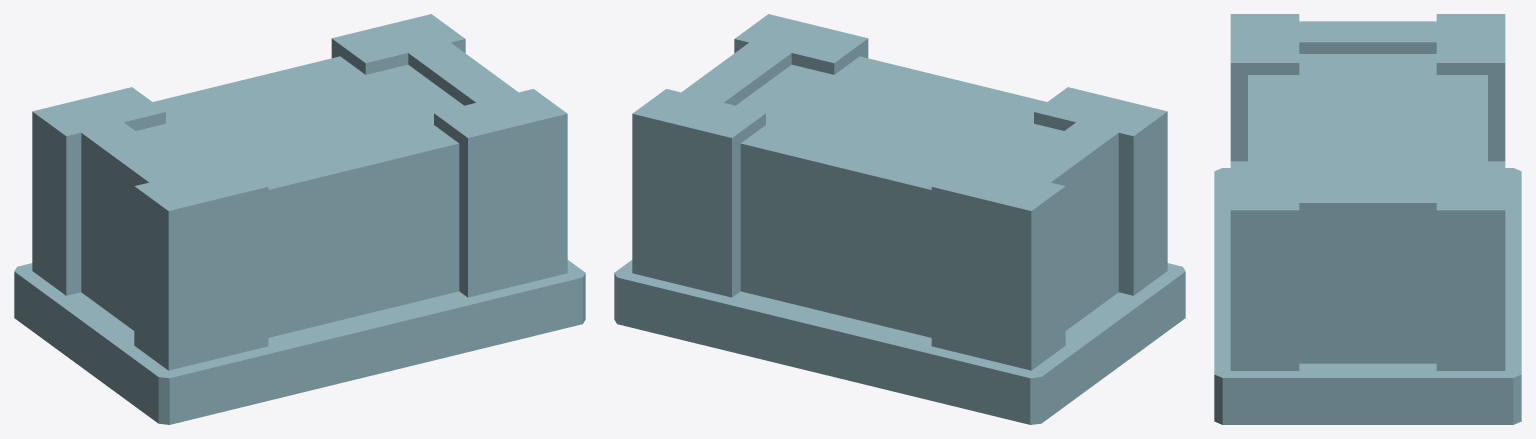
Rendered from altarStone.fbx.
3 renders of one model, left to right at view 1: azimuth 30°, elevation 25°; view 2: azimuth 150°, elevation 25°; view 3: azimuth 270°, elevation 25°, orthographic.
Parts seen in each view (by area): view 1: altarStone; view 2: altarStone; view 3: altarStone.
Part boxes in pixels (bbox=[...]): altarStone: bbox=[14, 14, 585, 424]; altarStone: bbox=[614, 14, 1185, 424]; altarStone: bbox=[1214, 14, 1521, 424].
Bounding box in the file's own units: 10.57 × 4.88 × 6.53.
